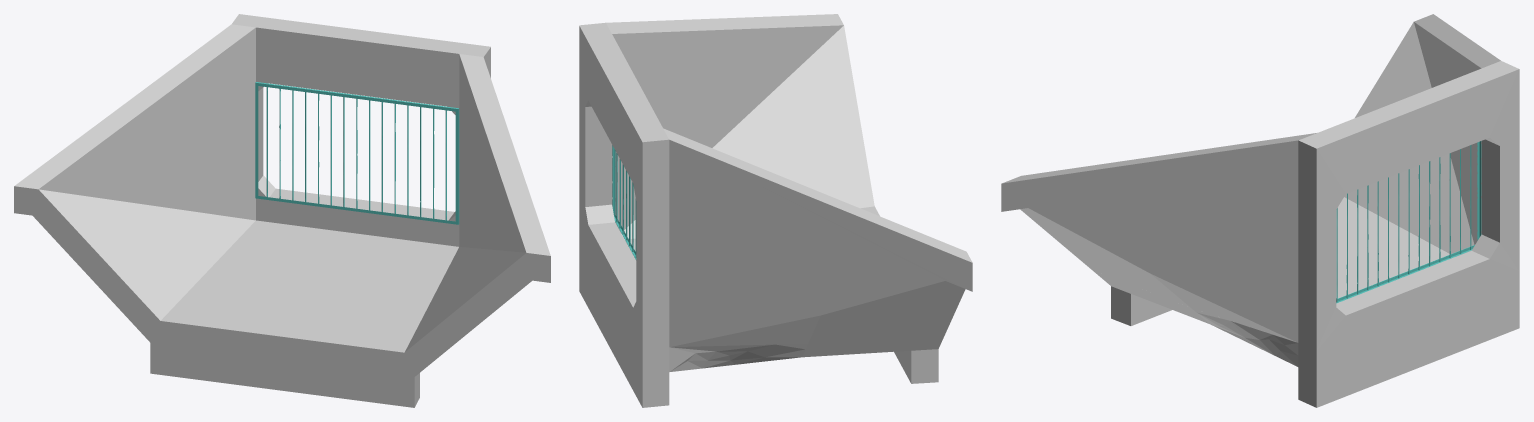
The model's file is 500125-CSSP001-780-XX-MD-ST-000222.glb.
3 renders of one model, left to right at view 1: azimuth 30°, elevation 25°; view 2: azimuth 150°, elevation 25°; view 3: azimuth 270°, elevation 25°, orthographic. The views are drawn at different scales.
Parts seen in each view (by area): view 1: 500125-CSSP001-780-XX-MD-ST-000222#OTR001, 500125-CSSP001-780-XX-MD-ST-000222#SUM001; view 2: 500125-CSSP001-780-XX-MD-ST-000222#OTR001, 500125-CSSP001-780-XX-MD-ST-000222#SUM001; view 3: 500125-CSSP001-780-XX-MD-ST-000222#OTR001, 500125-CSSP001-780-XX-MD-ST-000222#SUM001.
Part boxes in pixels (x1=…): 500125-CSSP001-780-XX-MD-ST-000222#OTR001: x1=14, y1=14, x2=550, y2=407; 500125-CSSP001-780-XX-MD-ST-000222#SUM001: x1=255, y1=82, x2=459, y2=224; 500125-CSSP001-780-XX-MD-ST-000222#OTR001: x1=579, y1=14, x2=972, y2=407; 500125-CSSP001-780-XX-MD-ST-000222#SUM001: x1=612, y1=145, x2=636, y2=259; 500125-CSSP001-780-XX-MD-ST-000222#OTR001: x1=1001, y1=14, x2=1519, y2=407; 500125-CSSP001-780-XX-MD-ST-000222#SUM001: x1=1336, y1=141, x2=1481, y2=303.
Bounding box in the file's own units: 5.72 × 3.2 × 5.8.
